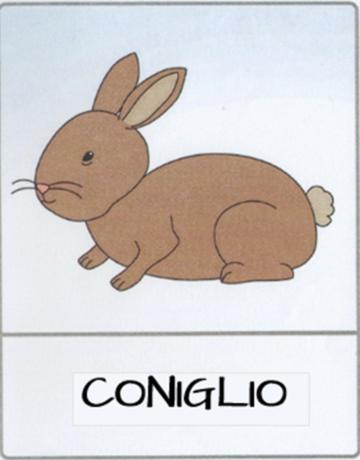coniglio: (1, 2, 360, 460)
